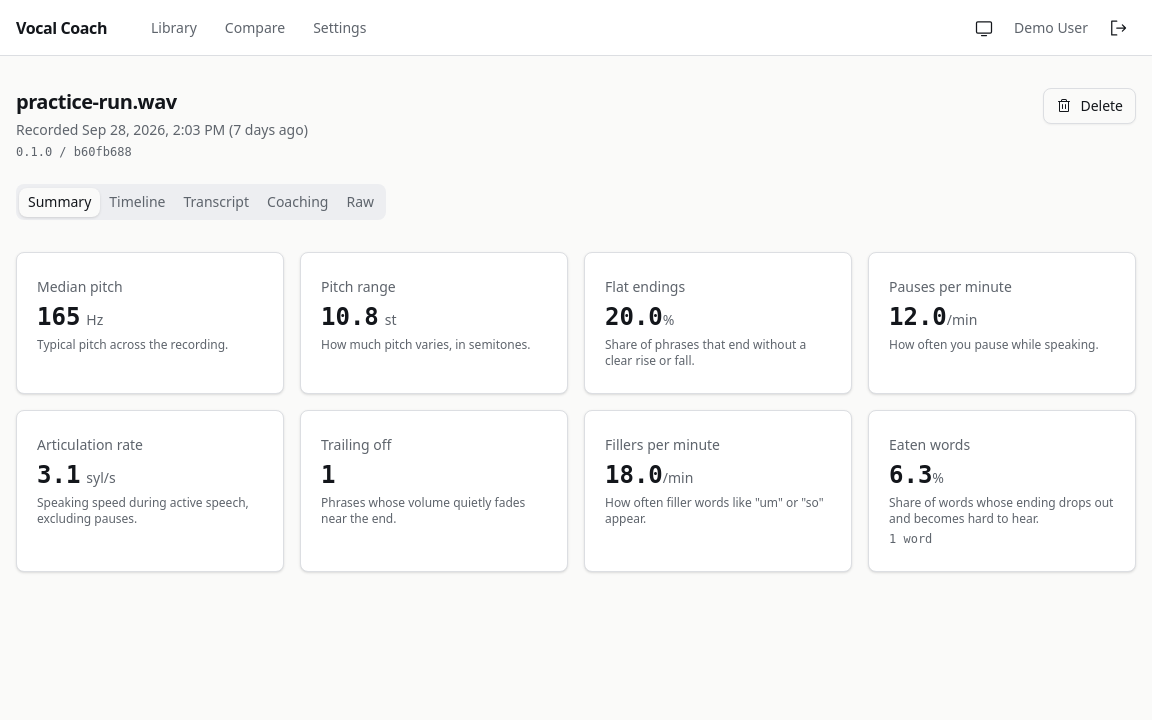
Scenario: AnalysisPage › switches tabs
Expected: the heading "practice-run.wav" is shown, [16,88,177,115]
What coordinates should you click on to do the following:
click the tab "Transcript"
I would click on:
 (216, 202)
Its box is [174,188,258,216].
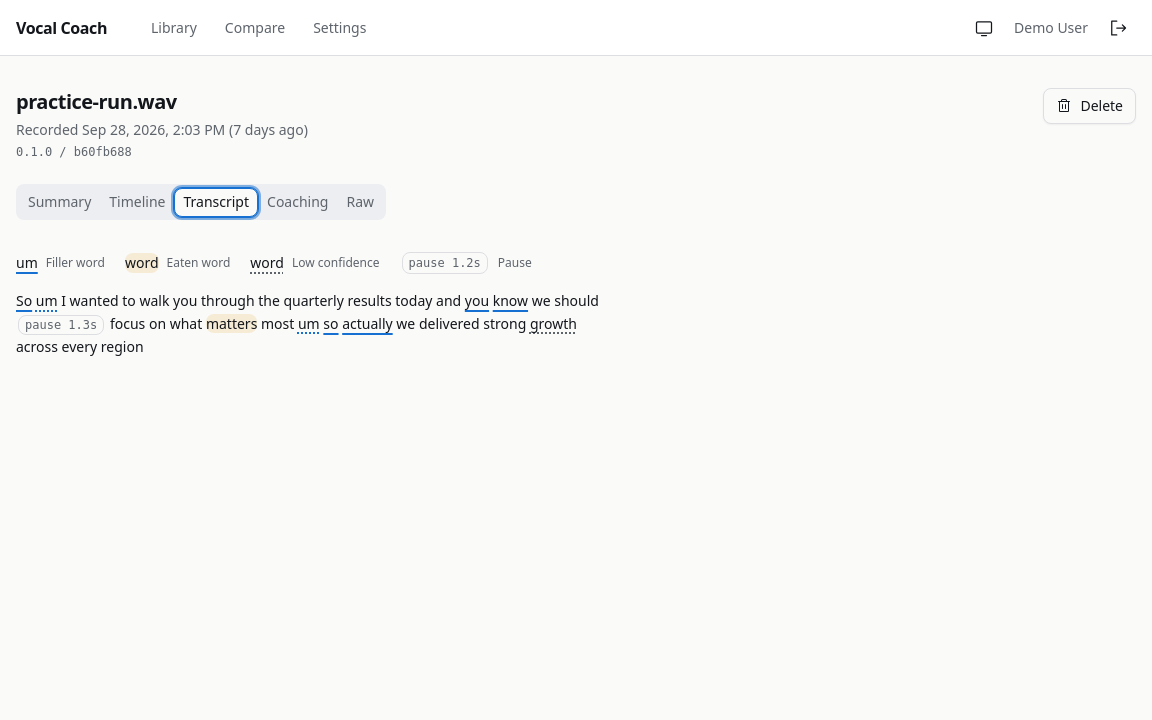
Now the list item "Filler word" is shown, box [46,254,105,271]
